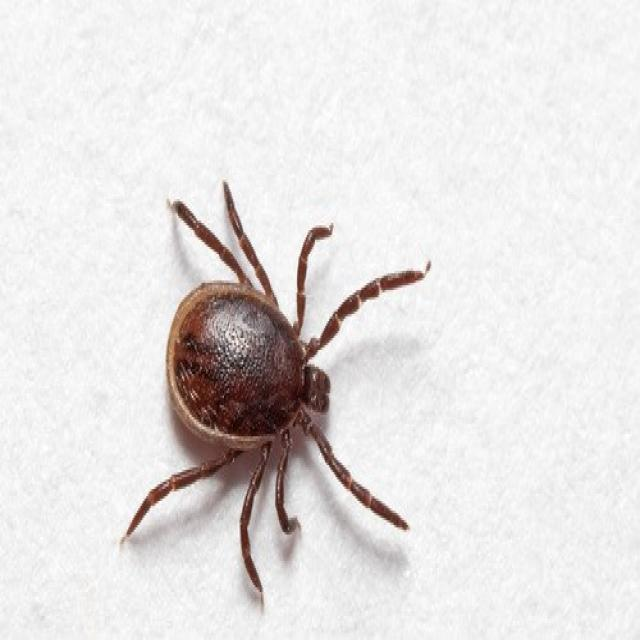Ixodes Ricinus-M: (119, 185, 431, 604)
